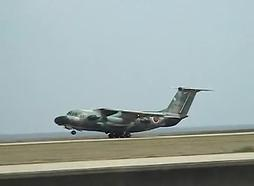aircraft: (54, 87, 213, 137)
